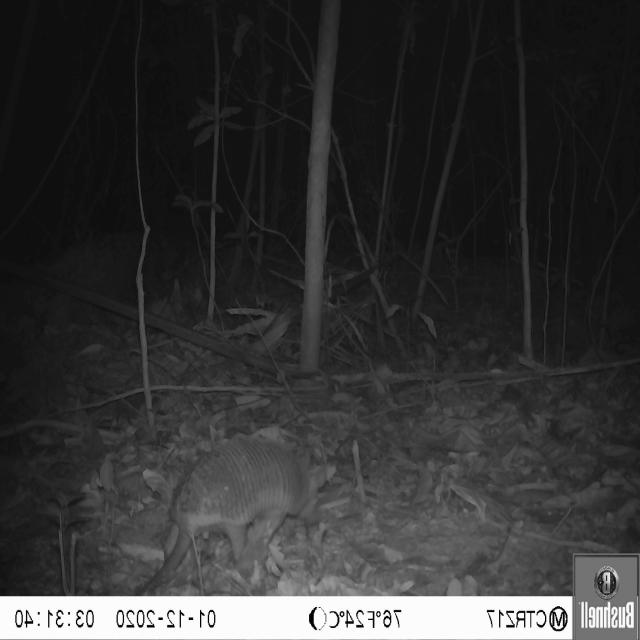Armadillo: (133, 421, 336, 594)
